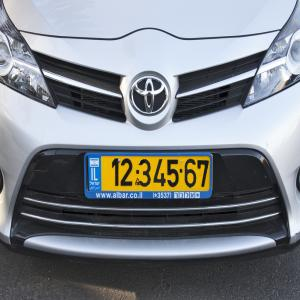Vehicle-registration-plate: (89, 155, 208, 206)
